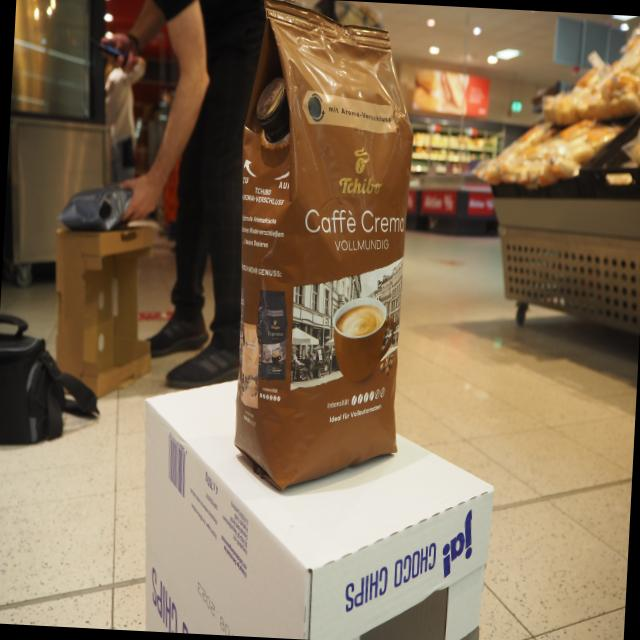CC Vollmundig 36 Pads: (219, 0, 428, 504)
